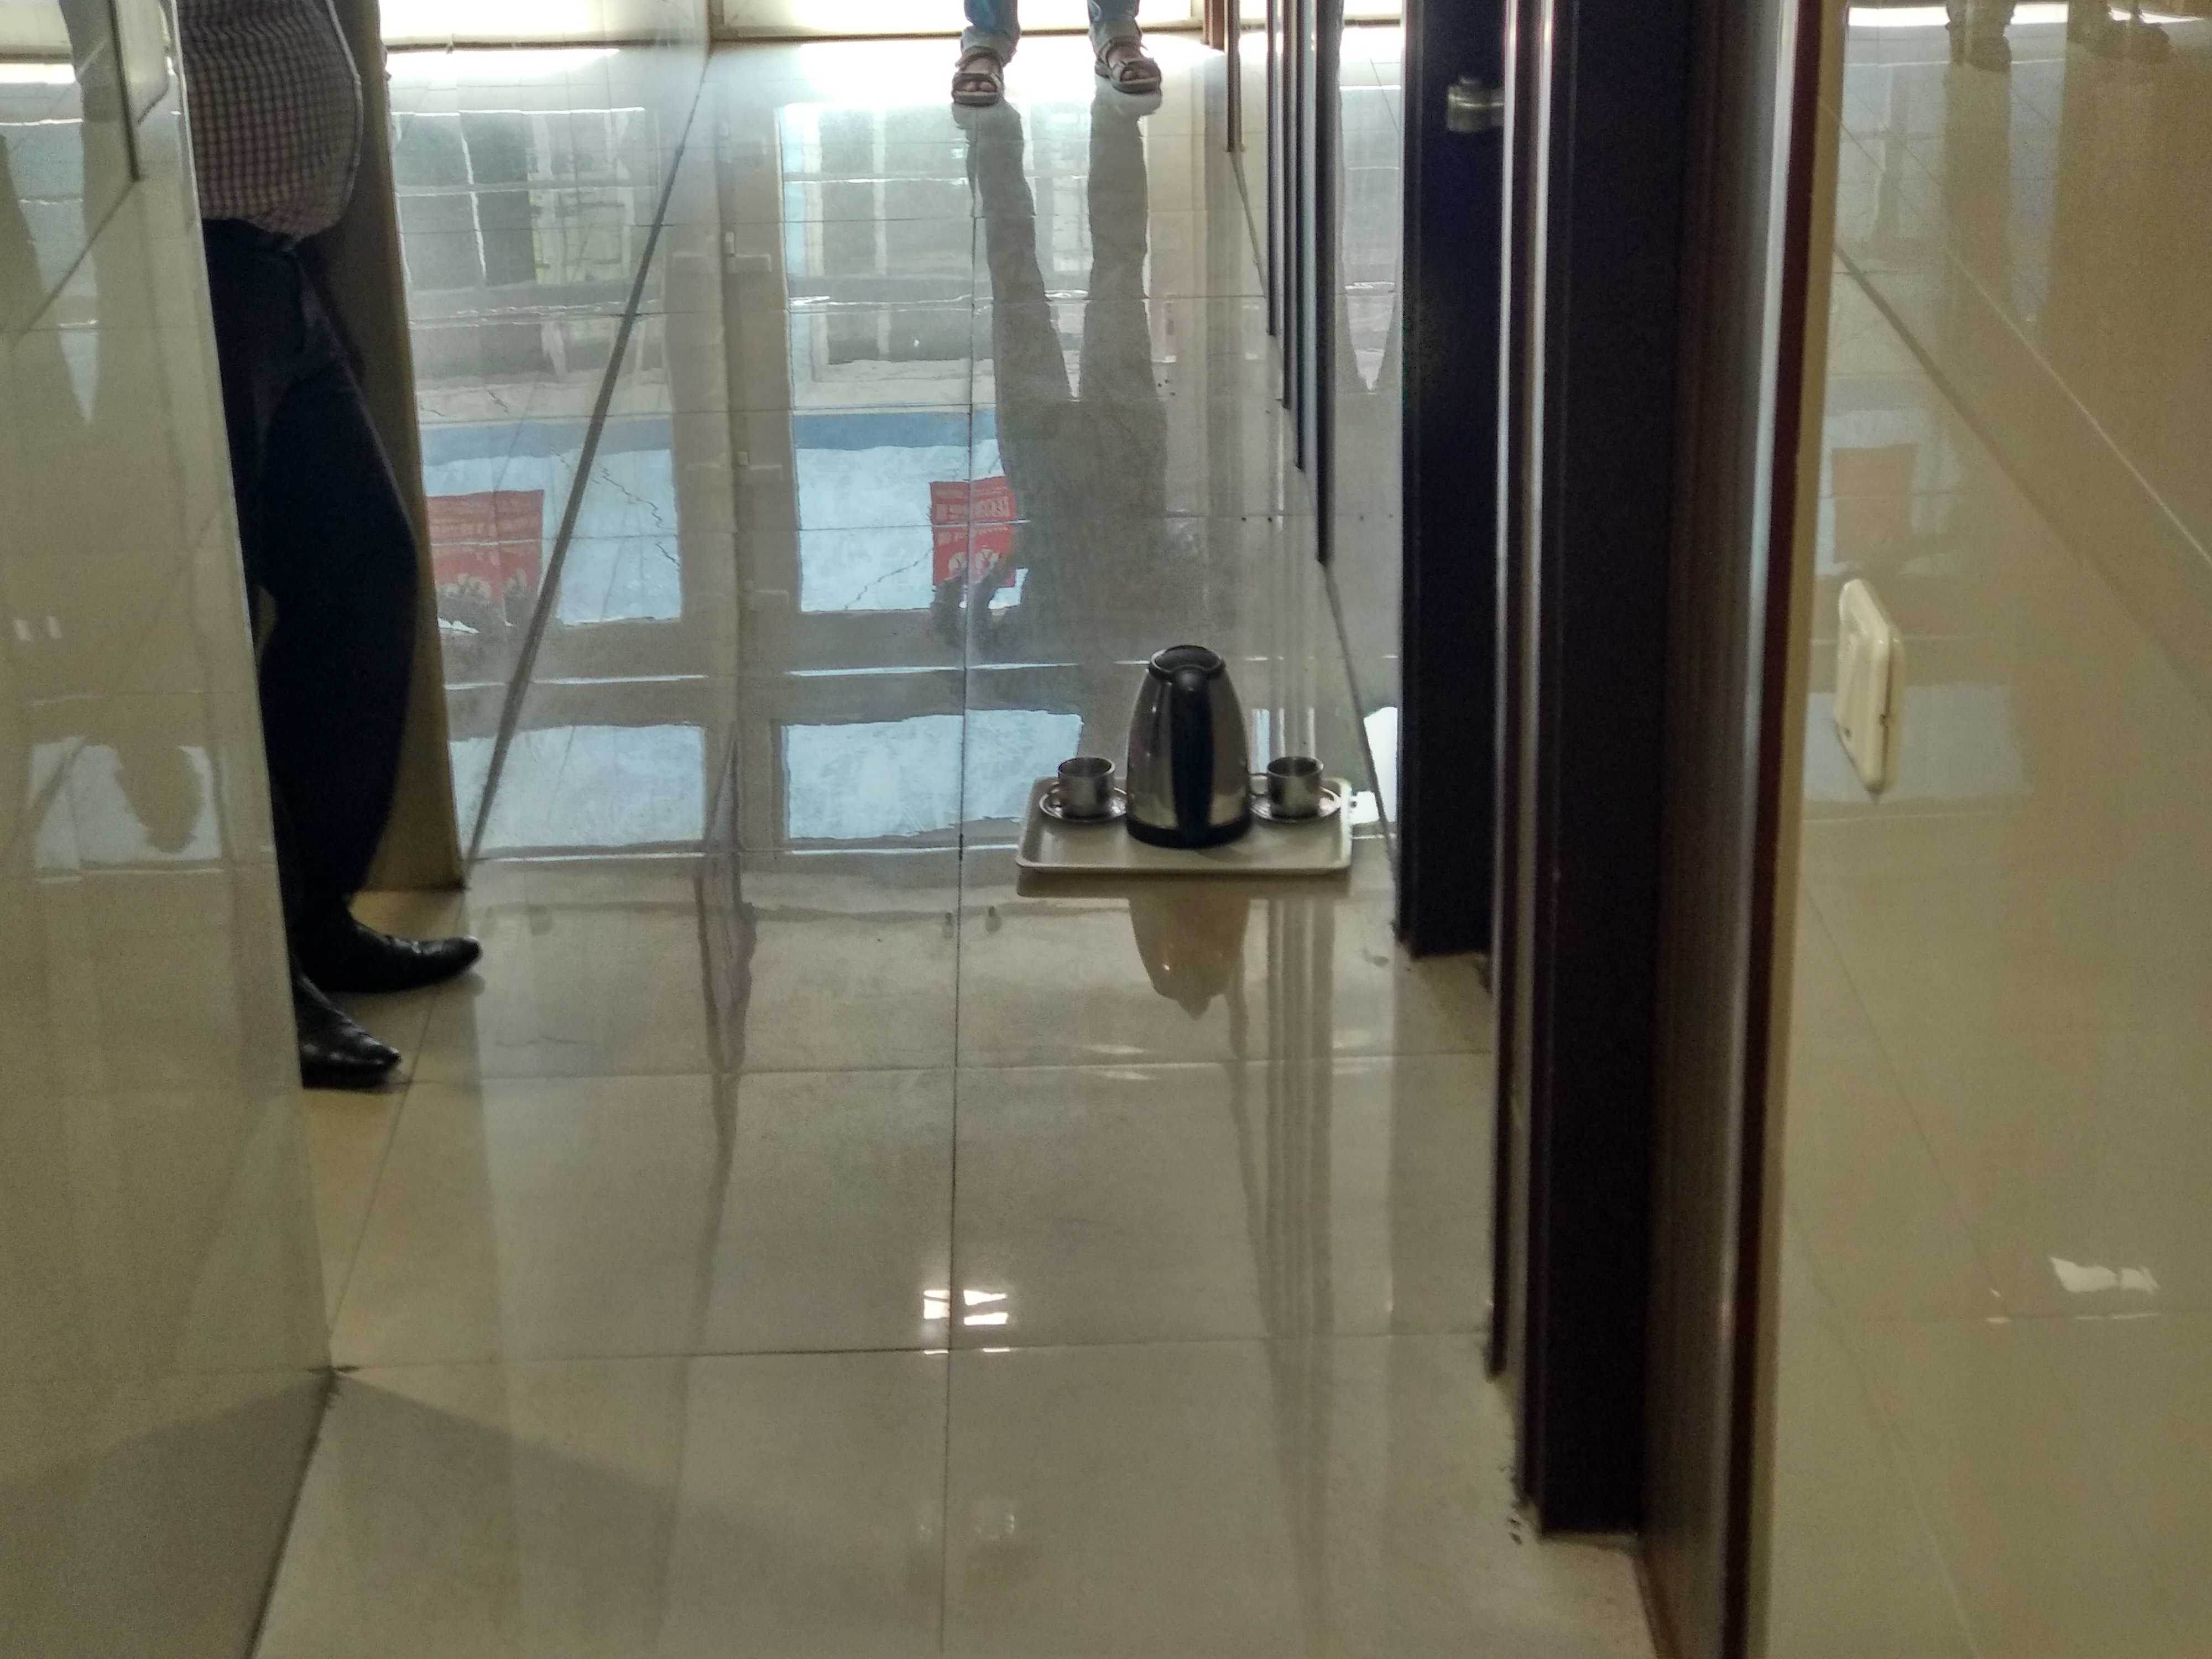CUP: (1049, 756, 1122, 823), (1258, 755, 1331, 817)
JUG: (1123, 643, 1252, 847)
